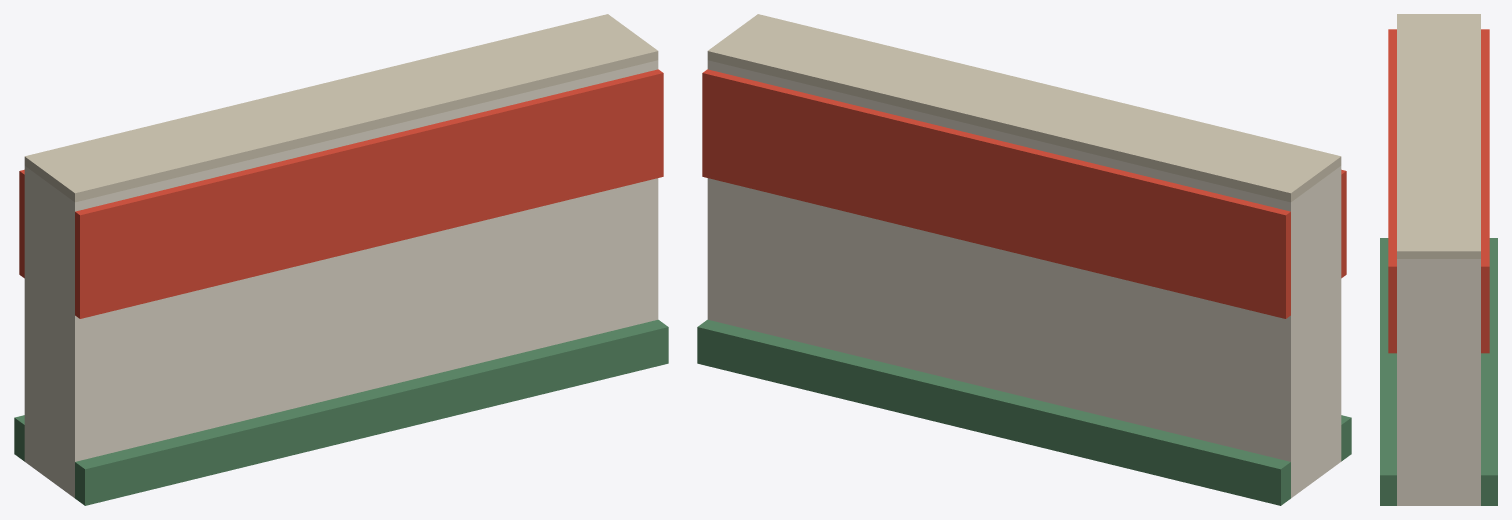
The model's file is partition-low.glb.
3 renders of one model, left to right at view 1: azimuth 30°, elevation 25°; view 2: azimuth 150°, elevation 25°; view 3: azimuth 270°, elevation 25°, orthographic. The views are drawn at different scales.
Visible parts, largest first — view 1: partition-low; view 2: partition-low; view 3: partition-low.
Boxes of the visible parts, x1,y1,x2,y2 form: partition-low: (14,14,668,505); partition-low: (697,14,1351,505); partition-low: (1380,14,1497,505).
Size of the model in its own units: 1 by 0.5 by 0.21.
Materials: 1 (1 with a texture image).
